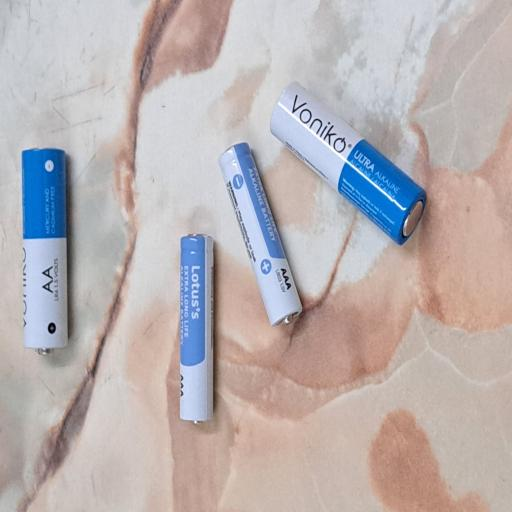battery: (200, 359, 324, 512), (139, 291, 279, 404), (118, 28, 274, 91), (65, 240, 209, 286)
